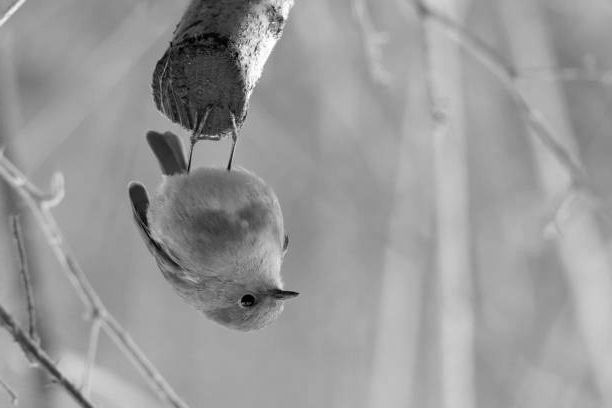Bird: (126, 105, 303, 333)
